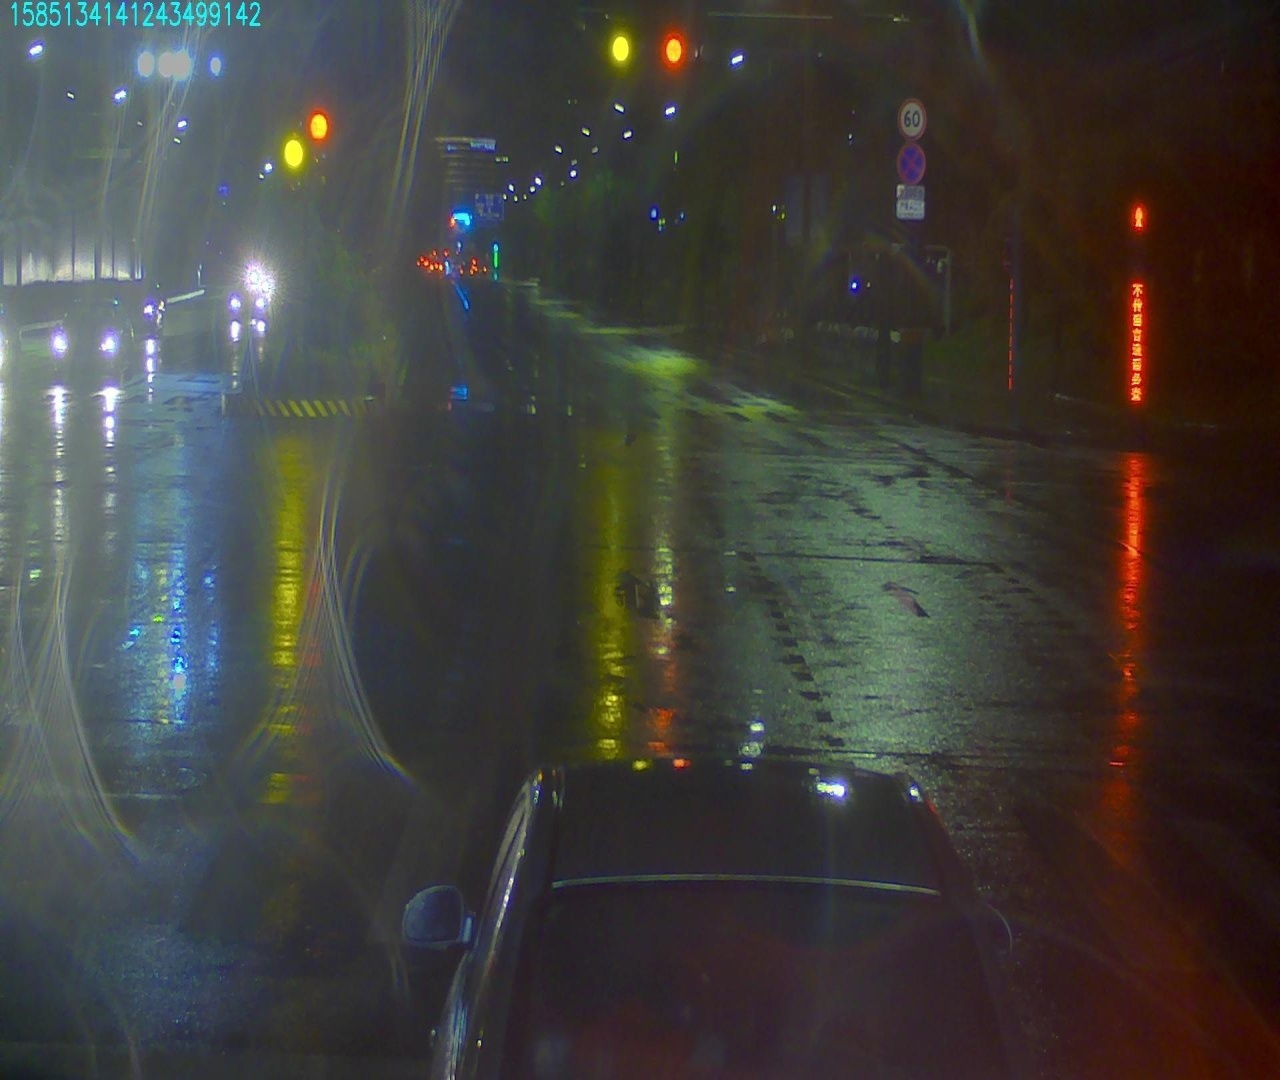red: (664, 34, 688, 69)
yellow: (609, 37, 628, 66)
